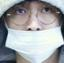mask_weared_incorrect: (2, 1, 64, 63)
